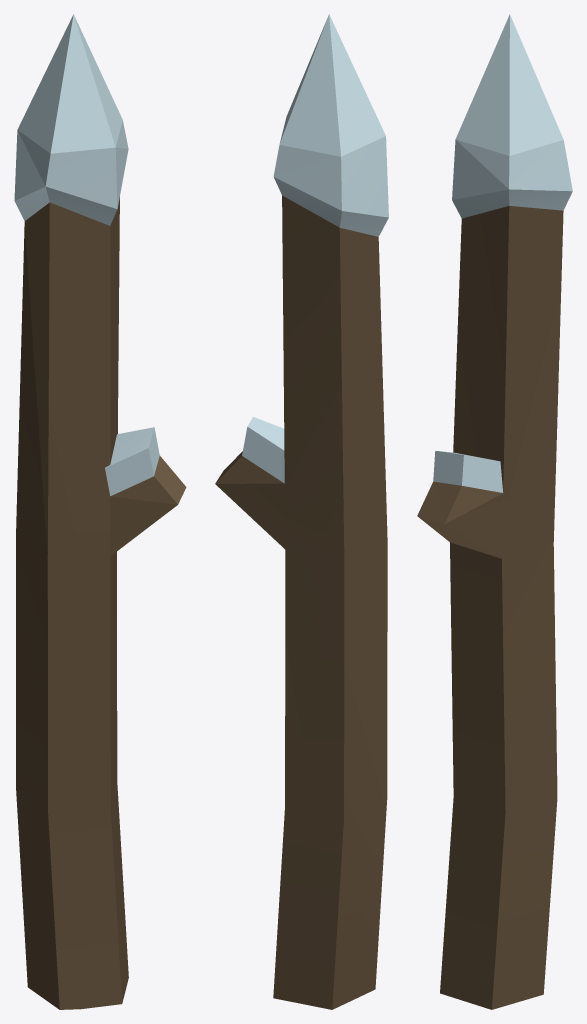
Rendered from Pua04.glb.
The picture shows the model from 3 angles, left to right: view 1: azimuth 30°, elevation 25°; view 2: azimuth 210°, elevation 25°; view 3: azimuth 270°, elevation 25°; orthographic projection.
Visible parts, largest first — view 1: SM_Prop_Wood_Spike_04_Snow; view 2: SM_Prop_Wood_Spike_04_Snow; view 3: SM_Prop_Wood_Spike_04_Snow.
Boxes of the visible parts, x1,y1,x2,y2 form: SM_Prop_Wood_Spike_04_Snow: [14, 14, 186, 1009]; SM_Prop_Wood_Spike_04_Snow: [215, 14, 388, 1009]; SM_Prop_Wood_Spike_04_Snow: [417, 14, 572, 1009].
Bounding box in the file's own units: 0.1785 × 1.34 × 0.19.
1 material, 1 textured.
